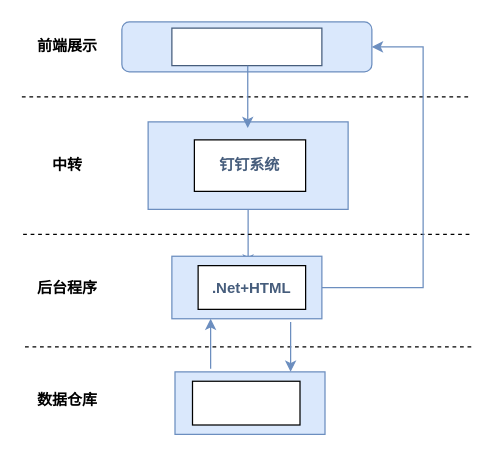
Image size: 499x456. Some labels were removed from this diagram. The centre of each missing label's shape, as x and y in pixels:
H5: [246,46]
Mysql: [245,402]
